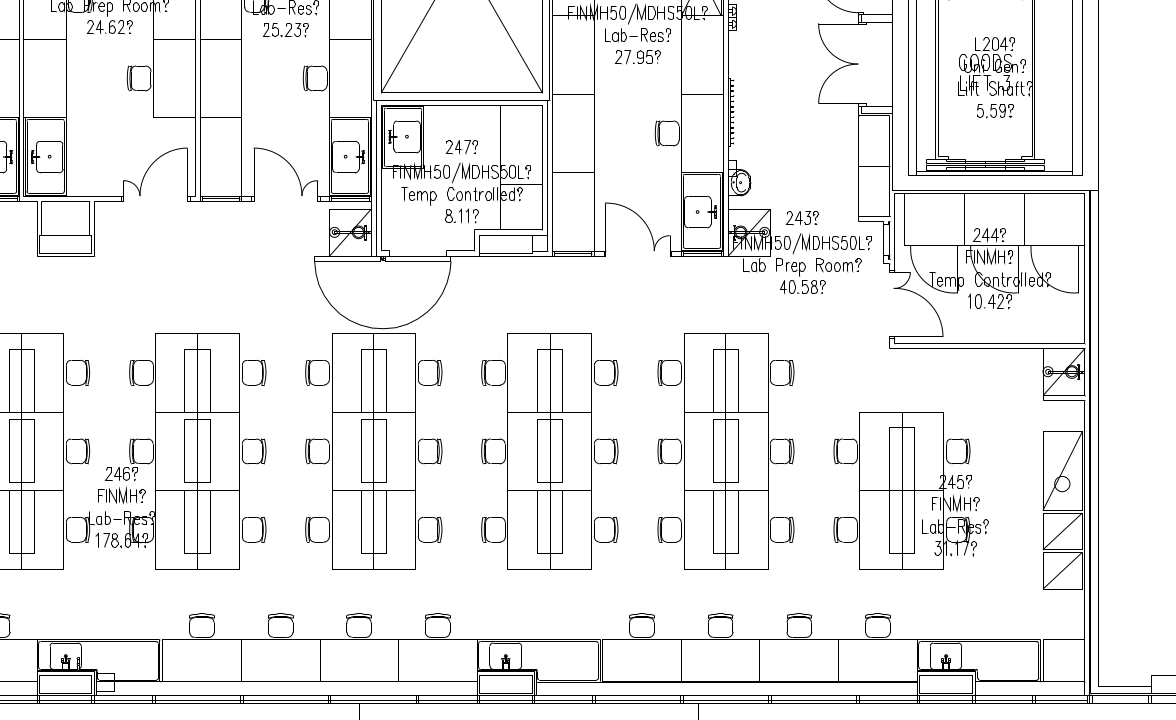door: (311, 253, 456, 331), (1025, 246, 1084, 308), (598, 199, 655, 261), (885, 288, 947, 341), (249, 142, 302, 202), (138, 141, 189, 200), (909, 246, 963, 300), (807, 19, 865, 65), (808, 61, 866, 107)
